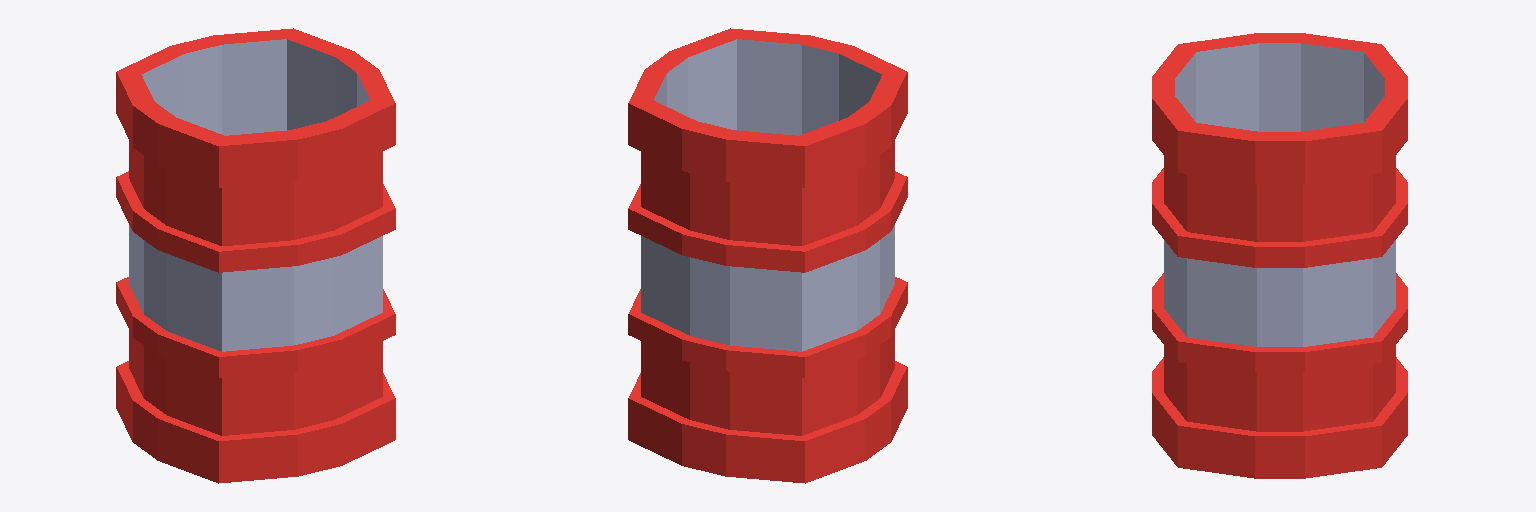
File: barrelOpen.obj
The picture shows the model from 3 angles: view 1: azimuth 30°, elevation 25°; view 2: azimuth 150°, elevation 25°; view 3: azimuth 270°, elevation 25°; orthographic projection.
Parts seen in each view (by area): view 1: barrelOpen; view 2: barrelOpen; view 3: barrelOpen.
Boxes of the visible parts, <box> form: barrelOpen: <box>116,28,395,483</box>; barrelOpen: <box>628,28,907,483</box>; barrelOpen: <box>1152,33,1407,478</box>.
Size of the model in its own units: 0.2365 by 0.344 by 0.2365.